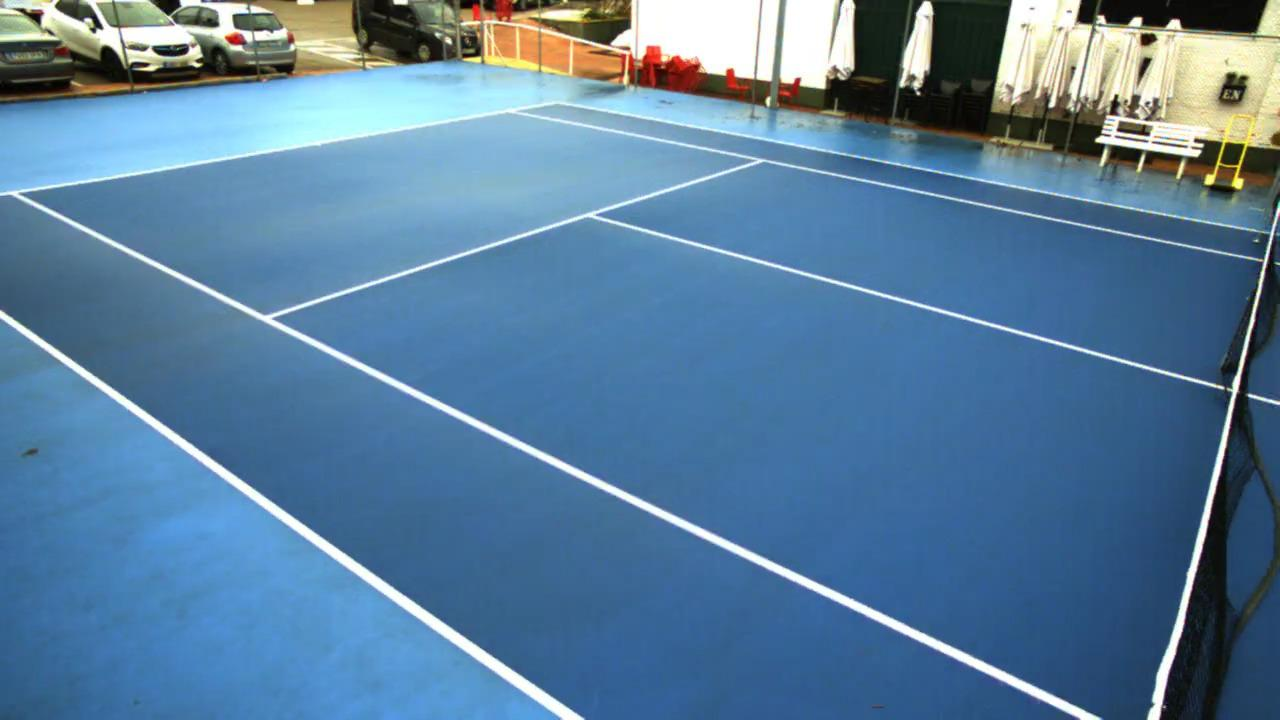cancha_tenis: (12, 110, 1280, 719)
point_f1: (4, 182, 32, 206)
point_f2: (501, 101, 524, 123)
point_fc1: (309, 137, 325, 152)
point_i1: (251, 306, 286, 334)
point_i2: (742, 150, 773, 172)
point_ic1: (576, 203, 610, 228)
